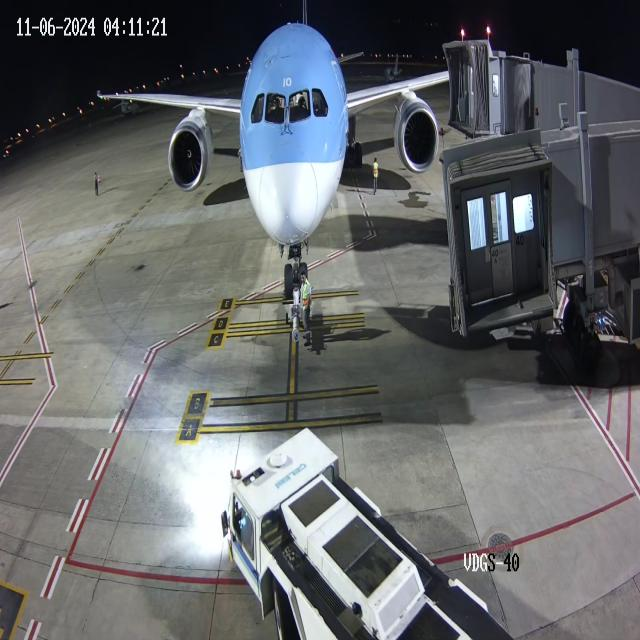bridge: (473, 34, 535, 142)
plane: (87, 1, 441, 308)
window: (247, 82, 332, 130)
